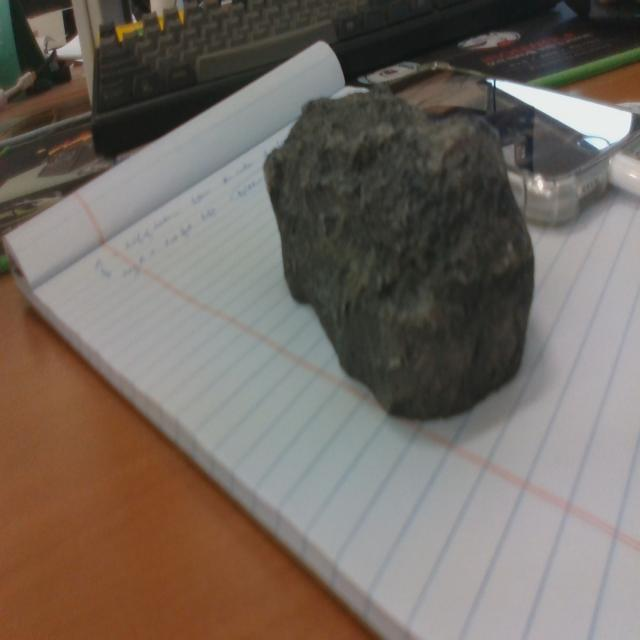stone: (263, 92, 537, 423)
